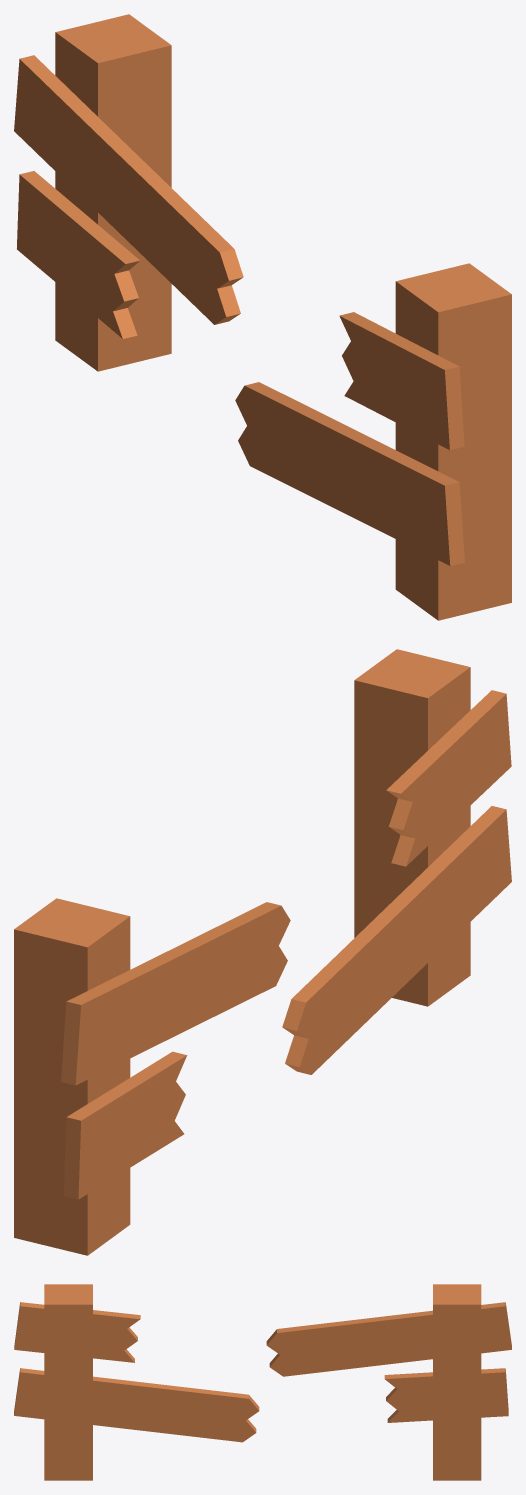
The model's file is fenceBroken.fbx.
3 renders of one model, top to bottom at view 1: azimuth 30°, elevation 25°; view 2: azimuth 150°, elevation 25°; view 3: azimuth 270°, elevation 25°, orthographic. The views are drawn at different scales.
Visible parts, largest first — view 1: fenceBroken; view 2: fenceBroken; view 3: fenceBroken.
Part boxes in pixels (box(x1,y1,x2,y2)): fenceBroken: box(14, 14, 511, 620); fenceBroken: box(14, 649, 511, 1255); fenceBroken: box(14, 1284, 511, 1480).
Size of the model in its own units: 1.2 by 4 by 10.26.
